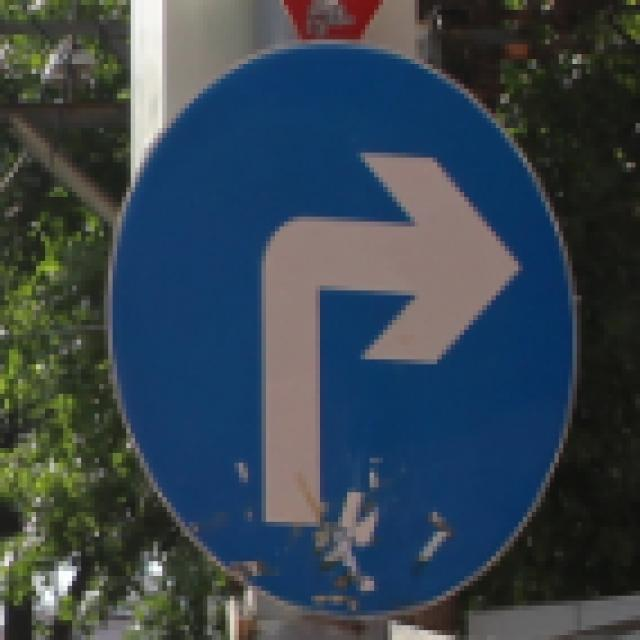Right: (106, 40, 587, 635)
